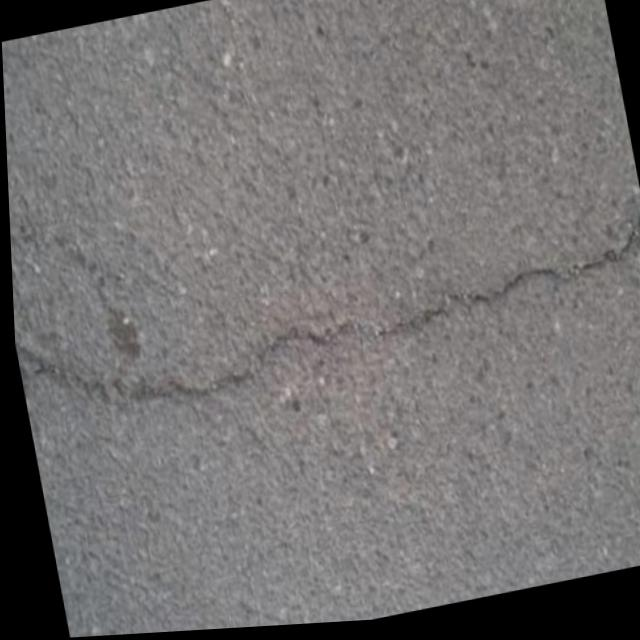Crack: (8, 204, 640, 446)
